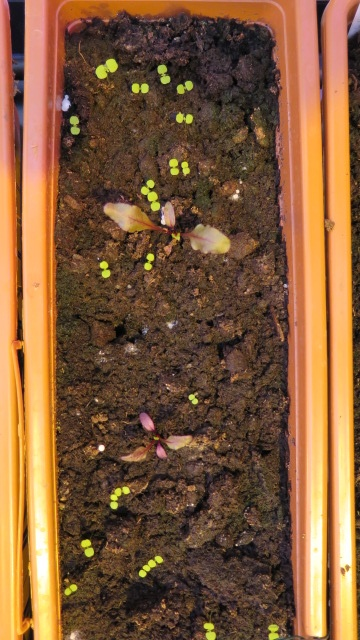crop: (103, 200, 234, 258), (122, 412, 191, 465)
weed: (94, 55, 119, 80), (198, 619, 220, 640), (156, 61, 171, 87), (80, 537, 95, 560), (265, 622, 283, 640), (175, 78, 194, 95), (145, 193, 162, 212), (134, 561, 150, 581), (129, 80, 150, 95), (69, 113, 81, 138), (174, 110, 194, 125), (144, 553, 164, 568), (167, 155, 180, 178), (98, 258, 111, 280), (143, 250, 155, 273), (139, 178, 155, 193), (109, 493, 121, 511), (62, 584, 81, 595), (180, 158, 191, 176), (187, 392, 199, 407), (114, 485, 129, 496)
